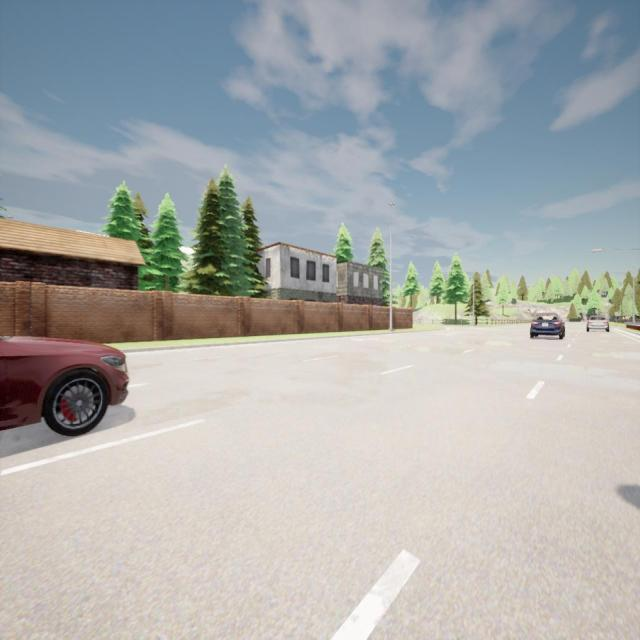Vehicle: (0, 336, 128, 434), (528, 311, 566, 340), (586, 314, 611, 334)
